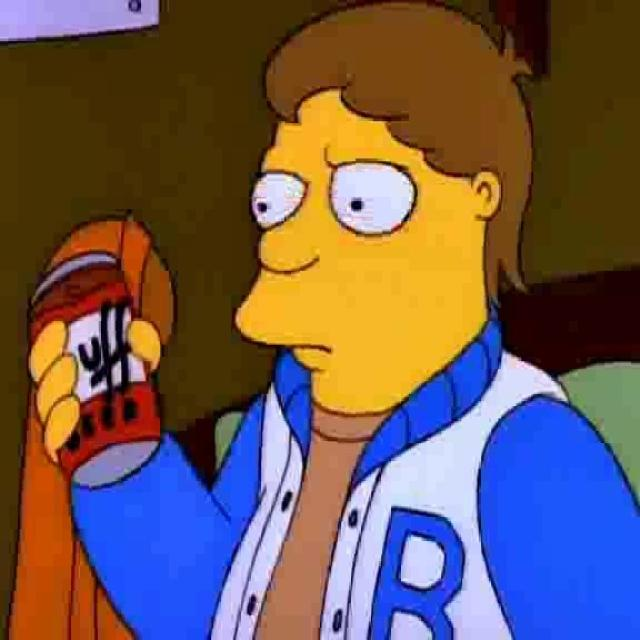Barney Gumble: (231, 4, 540, 421)
